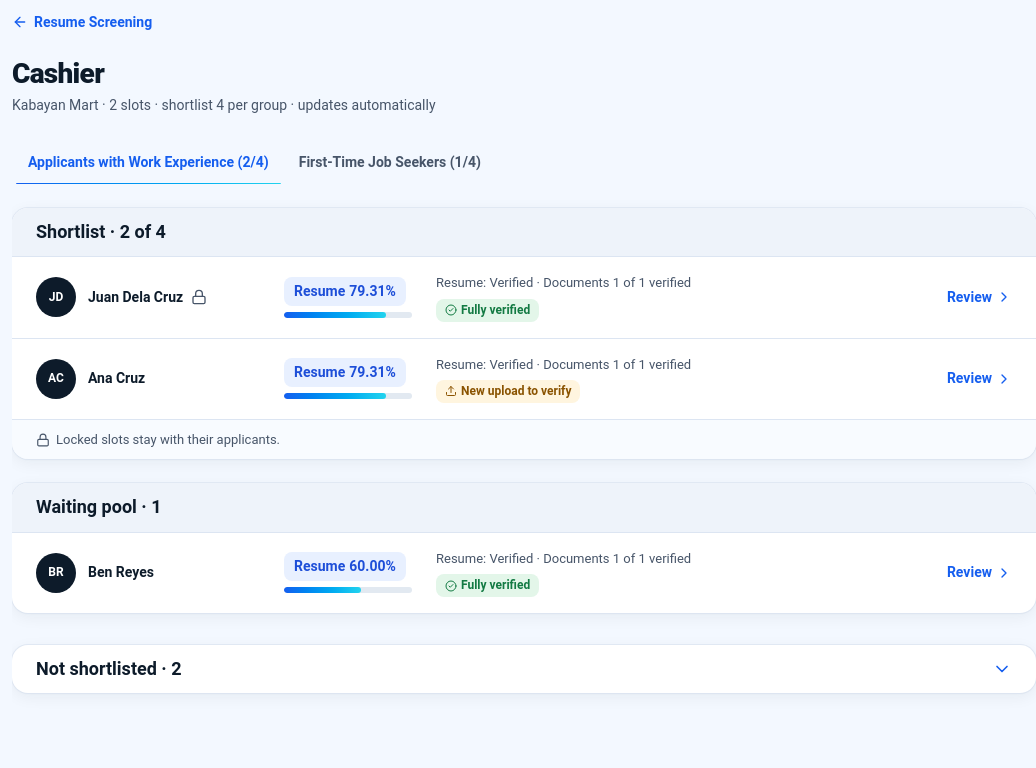
Vacancy shortlist (TC-37) › decision 36: short locked-slot note and empty waiting-pool line
This screenshot has width=1036, height=768.
Expected: the heading "Shortlist · 2 of 4" is shown, [12,208,1035,257]
Expected: the text "Locked slots stay with their applicants." is shown, [12,419,1035,459]
Click the tab "First-Time Job Seekers (1/4)" at (390, 162), box [286,144,494,180]
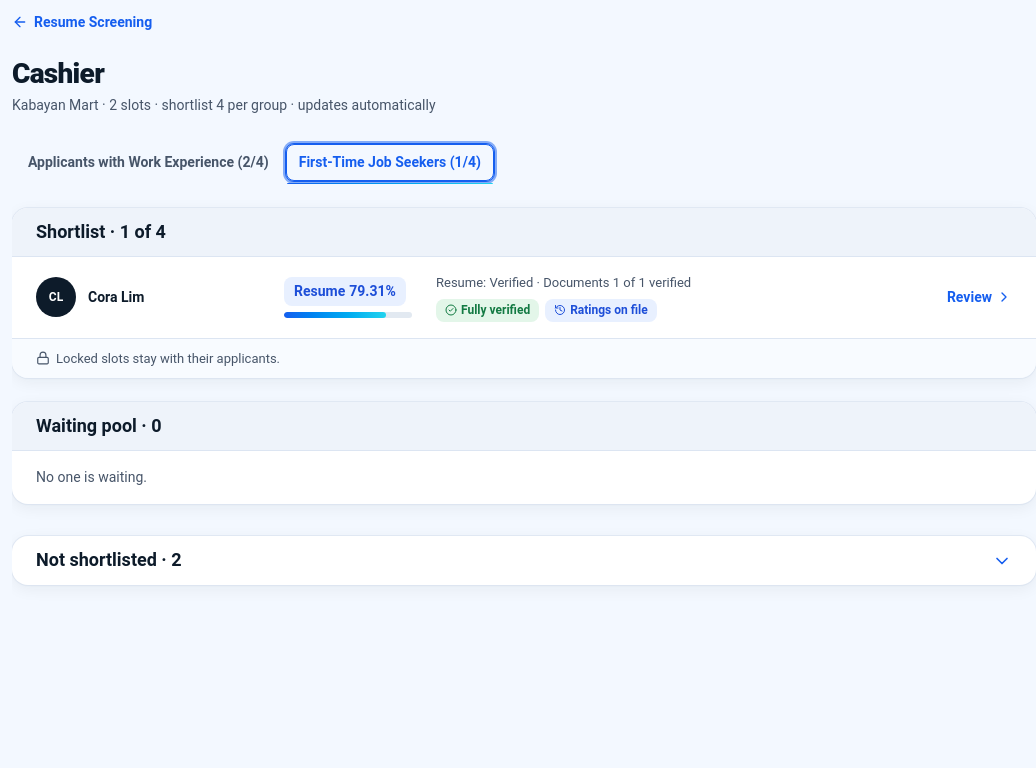
Expected: the heading "Waiting pool · 0" is shown, [12,402,1035,451]
Expected: the text "No one is waiting." is shown, [36,469,147,485]
